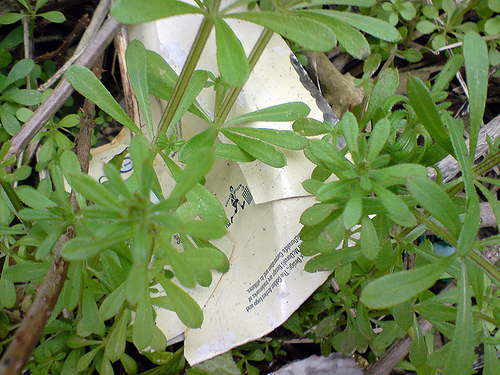litter: (36, 2, 362, 359)
